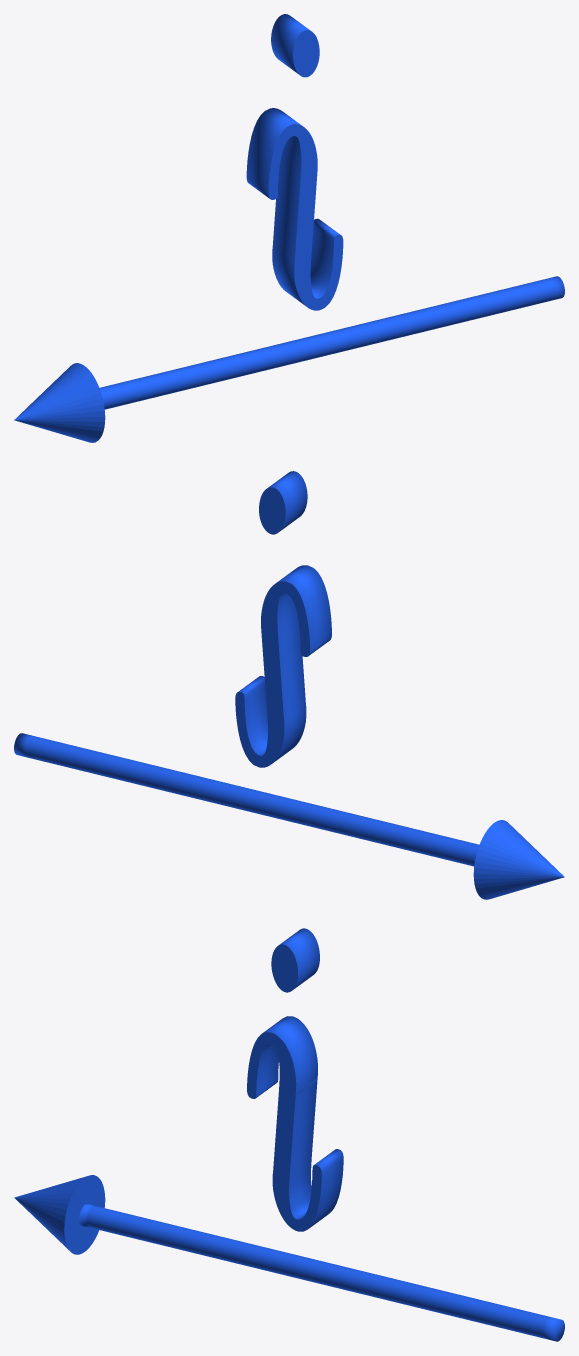
The model's file is flechaCor.dae.
3 renders of one model, top to bottom at view 1: azimuth 30°, elevation 25°; view 2: azimuth 150°, elevation 25°; view 3: azimuth 330°, elevation 25°, orthographic.
Parts seen in each view (by area): view 1: Texto.012; view 2: Texto.012; view 3: Texto.012.
Boxes of the visible parts, bbox=[...] form: Texto.012: bbox=[14, 14, 564, 442]; Texto.012: bbox=[14, 471, 564, 899]; Texto.012: bbox=[14, 928, 564, 1341].
Size of the model in its own units: 1.12 by 0.1451 by 0.7178.
